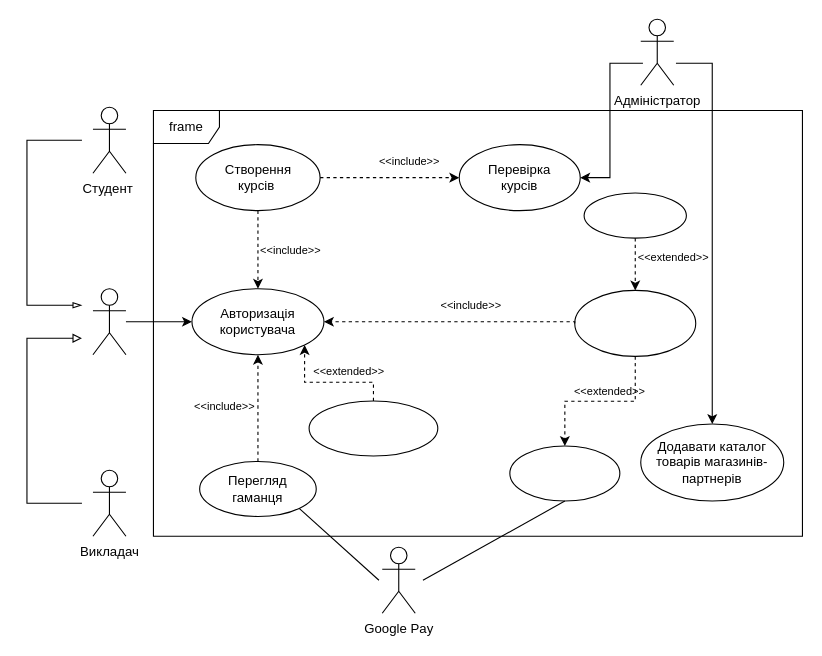
Image size: 822x656. Some labels were removed from this diagram. Each missing label, with the box of its shape:
Залишити відгук: (583, 192, 686, 238)
Замовлення курсу: (574, 289, 696, 356)
Користувач: (92, 288, 126, 355)
Обробка транзакції: (509, 445, 620, 501)
Пошук потрібних курсів: (308, 400, 438, 456)
